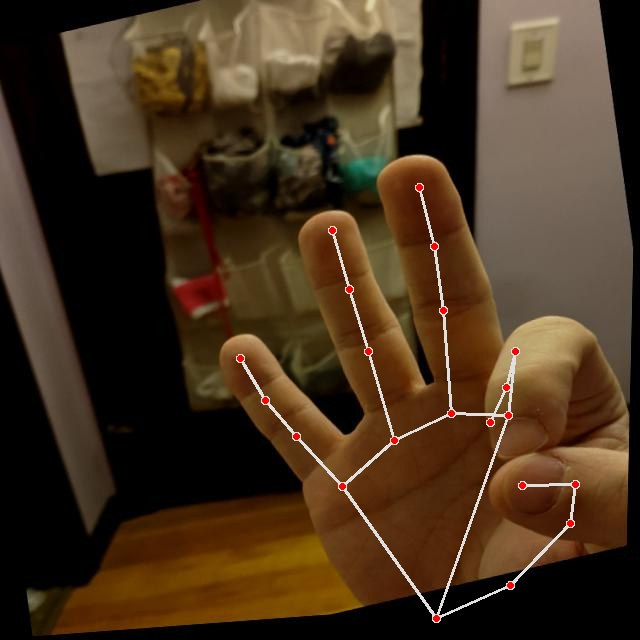F: (182, 113, 636, 628)
